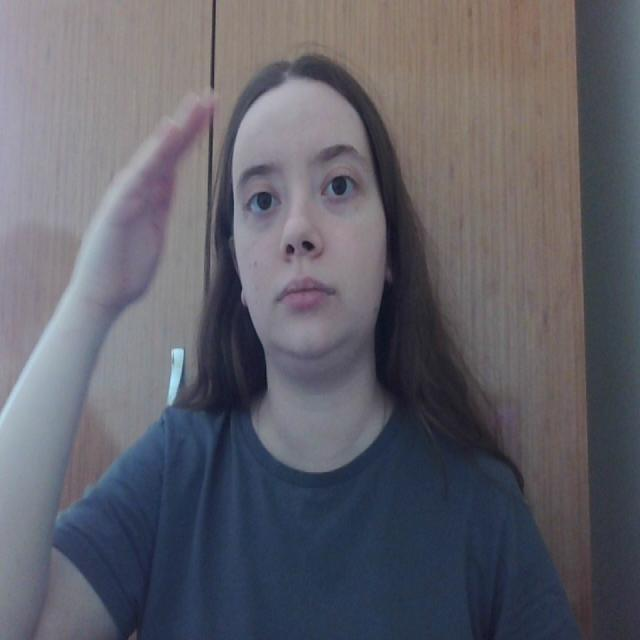Merhaba: (72, 79, 270, 339)
